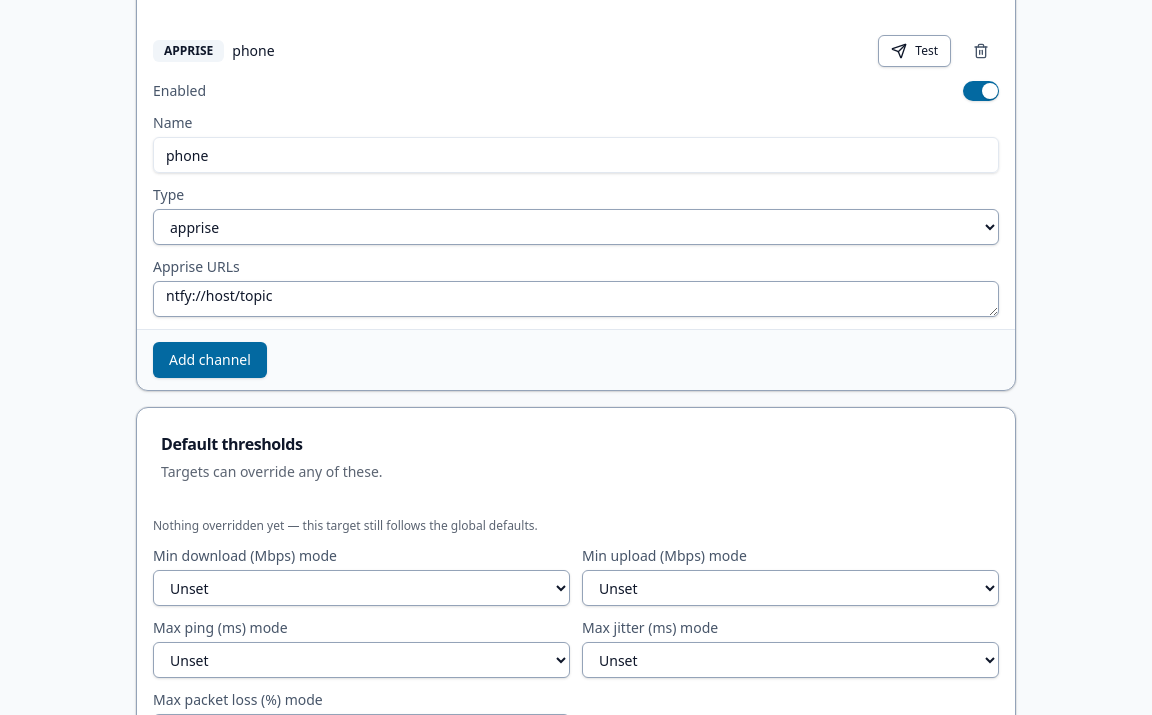
Test: Settings page › disables Test with a save-first hint for a dirty/unsaved channel
(page scrolled)
# A brand-new, never-saved channel: Test is disabled with the hint.
Step 1. Click the button "Add channel" → (210, 360), box [153,342,267,378]
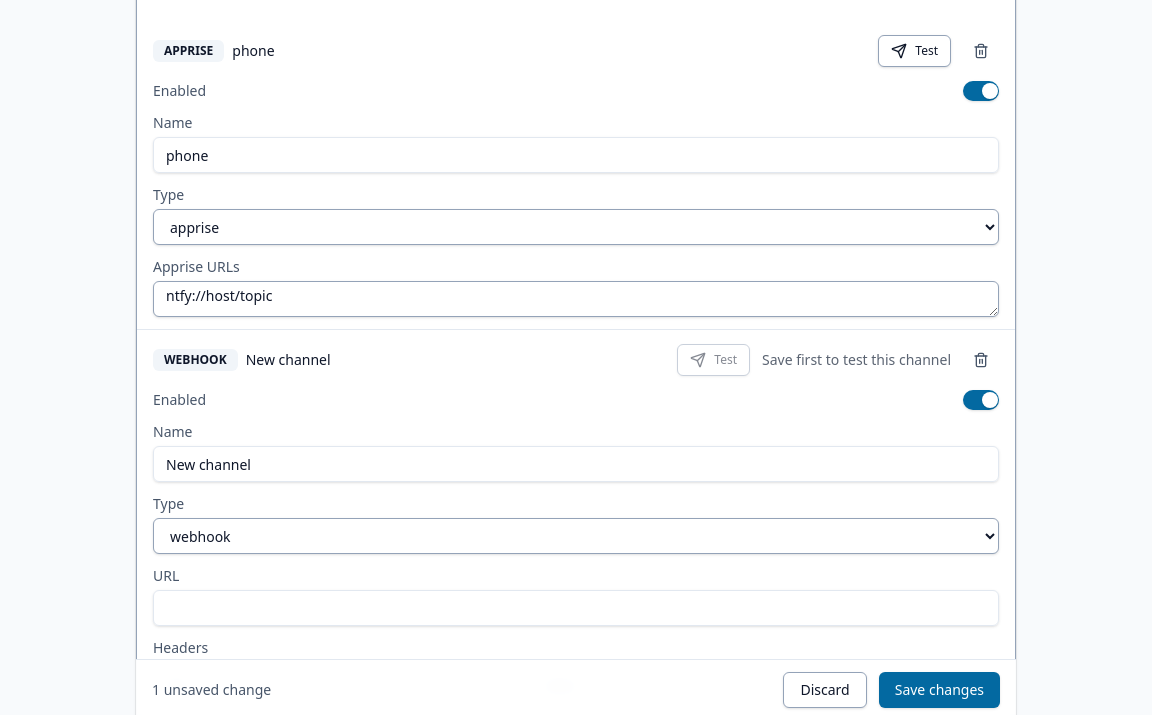
Check: the button with aria-label "Test phone" is enabled, box [878,35,951,67]
Check: the button with aria-label "Test New channel" is disabled, box [677,344,750,376]
Check: the text "Save first to test this channel" is shown once, box [762,350,951,370]
# Editing the saved channel without saving disables its Test button too.
Step 2. Type "x" into the field showing "phone" below "phone" → (576, 155), box [153,137,999,173]
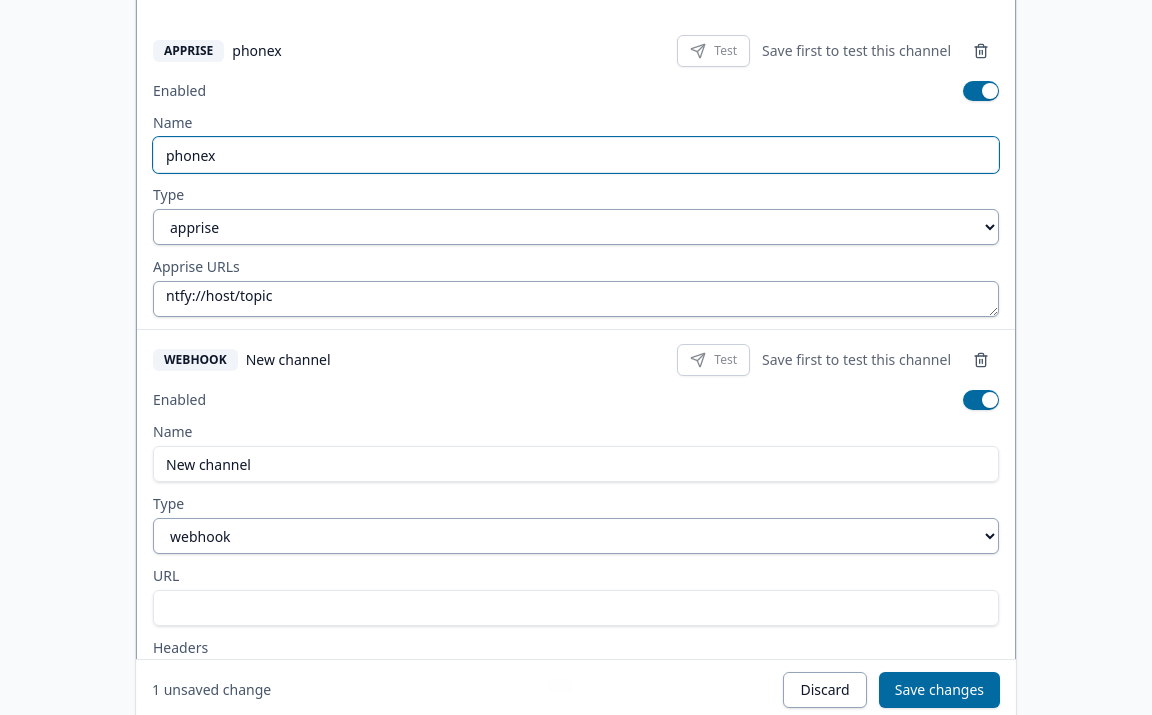
Check: the button with aria-label "Test phonex" is disabled, box [677,35,750,67]
Check: the text "Save first to test this channel" is shown 2 times, box [762,41,951,61]; [762,350,951,370]
